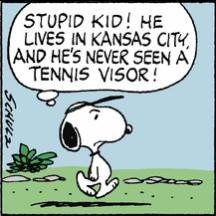snoopy: (59, 94, 133, 198)
